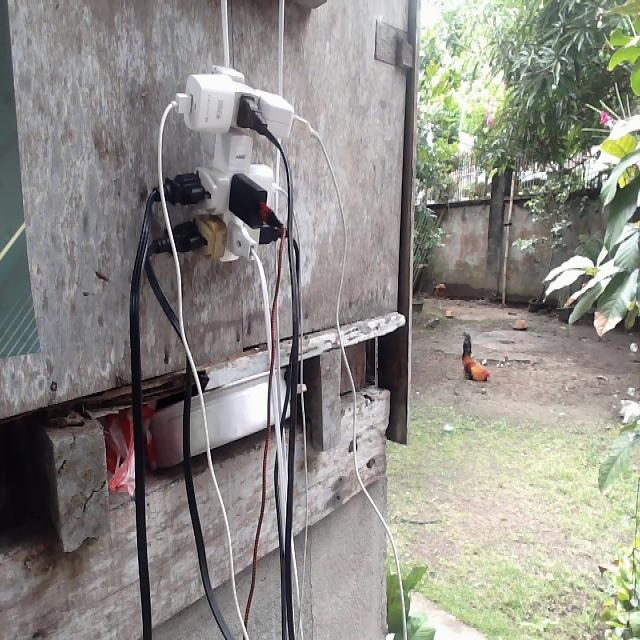-: (146, 64, 318, 260)
